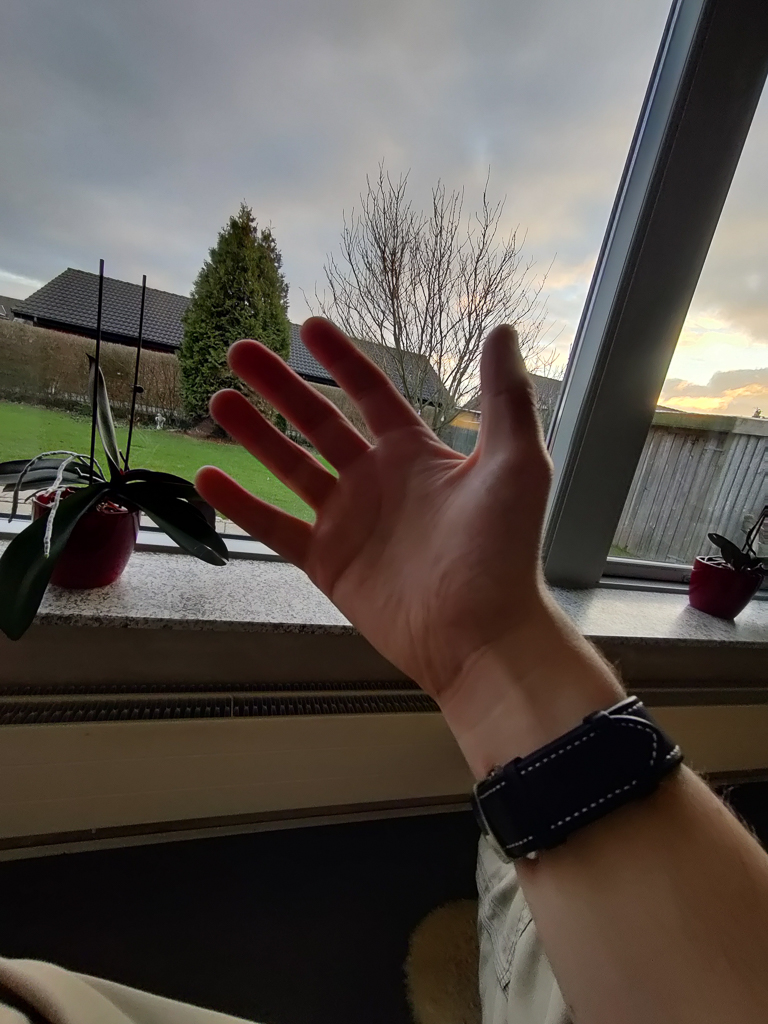Eagle: (153, 411, 168, 432)
Humanoid: (0, 305, 768, 1024)
